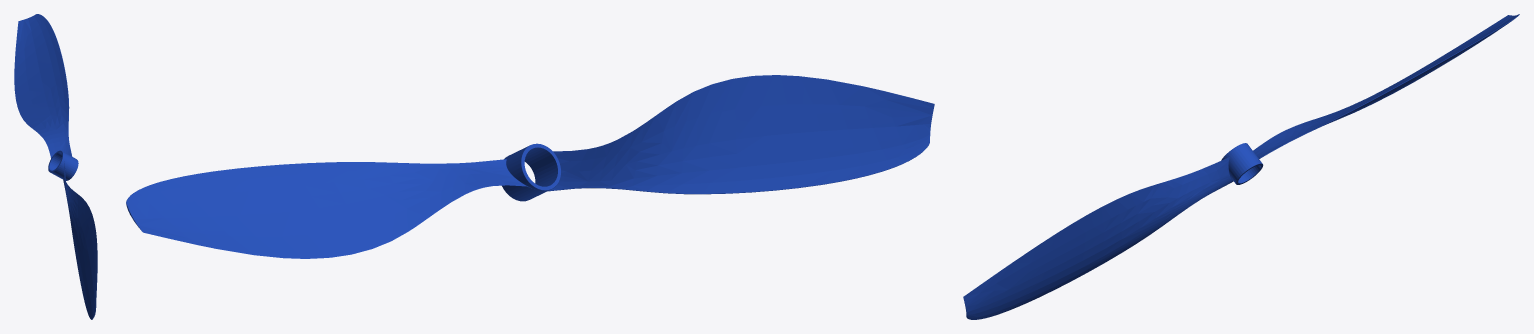
File: rotor_2.glb
The picture shows the model from 3 angles, left to right: view 1: azimuth 30°, elevation 25°; view 2: azimuth 150°, elevation 25°; view 3: azimuth 330°, elevation 25°; orthographic projection. The views are drawn at different scales.
Visible parts, largest first — view 1: Rotor 2; view 2: Rotor 2; view 3: Rotor 2.
Part boxes in pixels (x1,y1,x2,y2): Rotor 2: [14, 14, 97, 319]; Rotor 2: [126, 75, 934, 258]; Rotor 2: [963, 14, 1519, 319].
Size of the model in its own units: 0.0502 by 0.0281 by 0.118.
